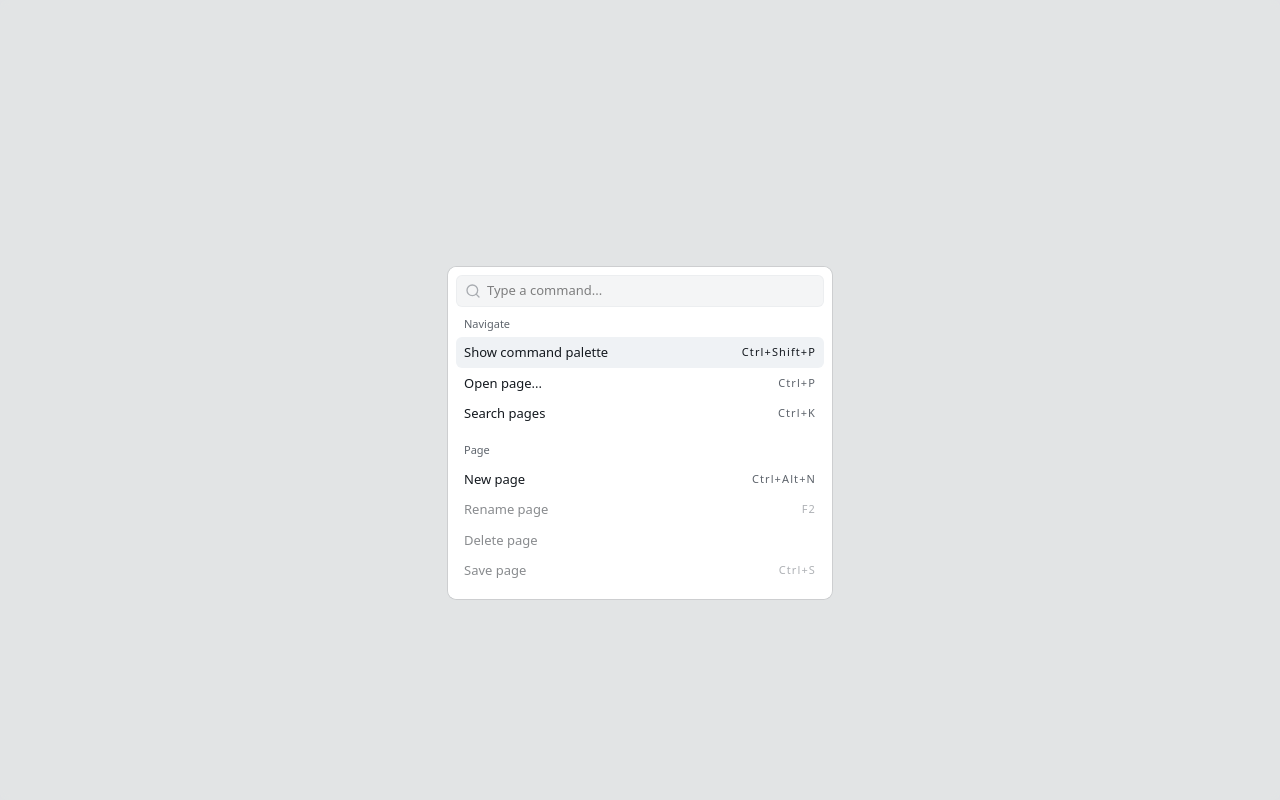
CommandPalette › says so when nothing matches
Type "zzzz" into the dropdown with placeholder "Type a command...".
click(652, 291); type("zzzz")  # box [481, 281, 823, 300]
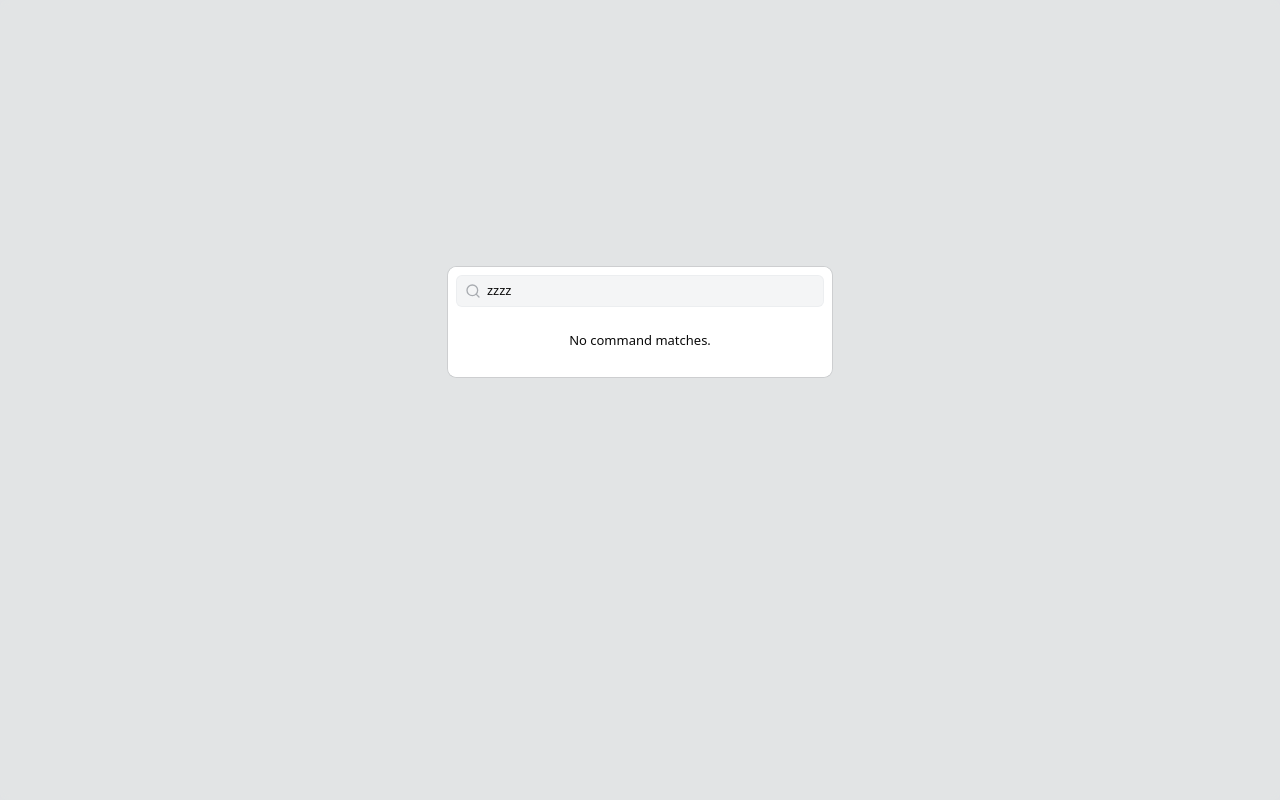
Check: the text "No command matches." is shown, box [569, 331, 711, 349]
